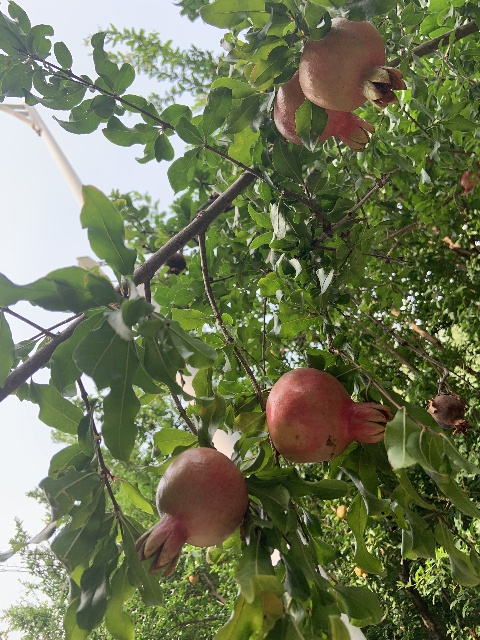mid-growth: (354, 566, 368, 579), (336, 505, 349, 518), (188, 574, 198, 585)
ripe: (135, 447, 247, 576), (265, 367, 390, 462), (298, 17, 407, 112), (273, 69, 375, 152), (460, 170, 478, 197)
